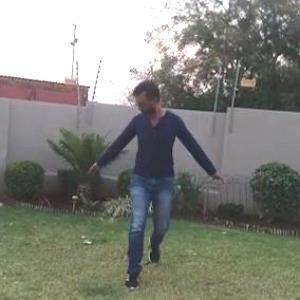land: (84, 69, 235, 299)
